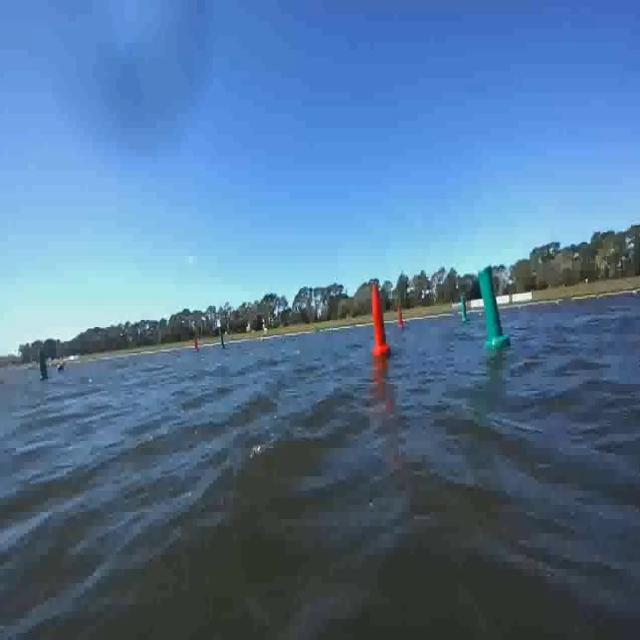green-column-buoy: (479, 267, 511, 350), (34, 346, 49, 382), (460, 296, 469, 324), (218, 326, 226, 349)
red-column-buoy: (370, 282, 391, 358), (396, 306, 404, 328), (193, 338, 199, 354)
